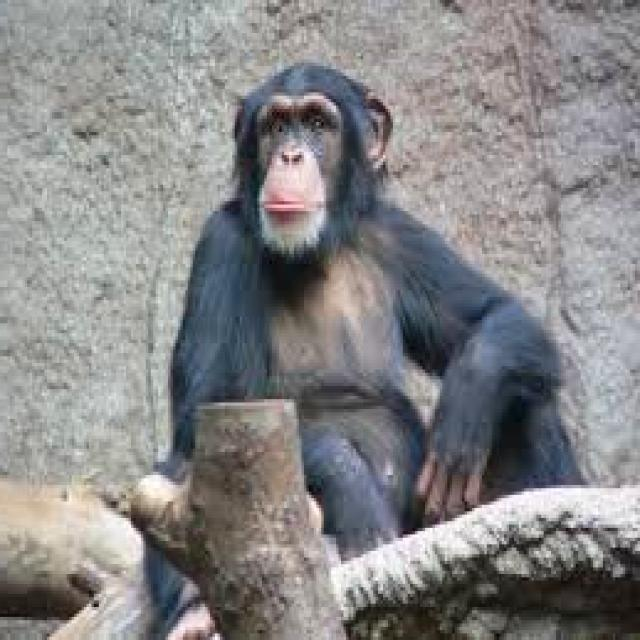chimpanzee: (163, 63, 581, 554)
